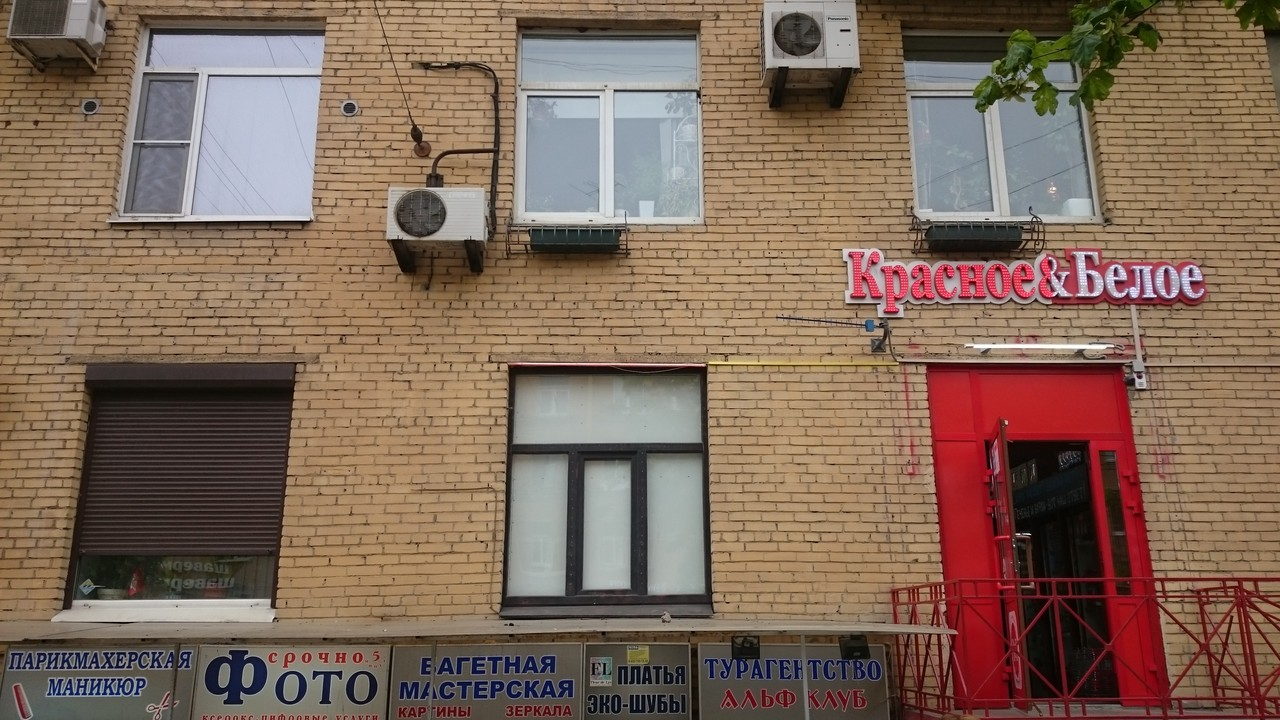door: (983, 431, 1168, 709)
signboard: (839, 244, 1210, 311)
window: (82, 367, 282, 605), (510, 372, 709, 602), (122, 17, 320, 218), (901, 32, 1106, 222), (516, 19, 703, 227)
